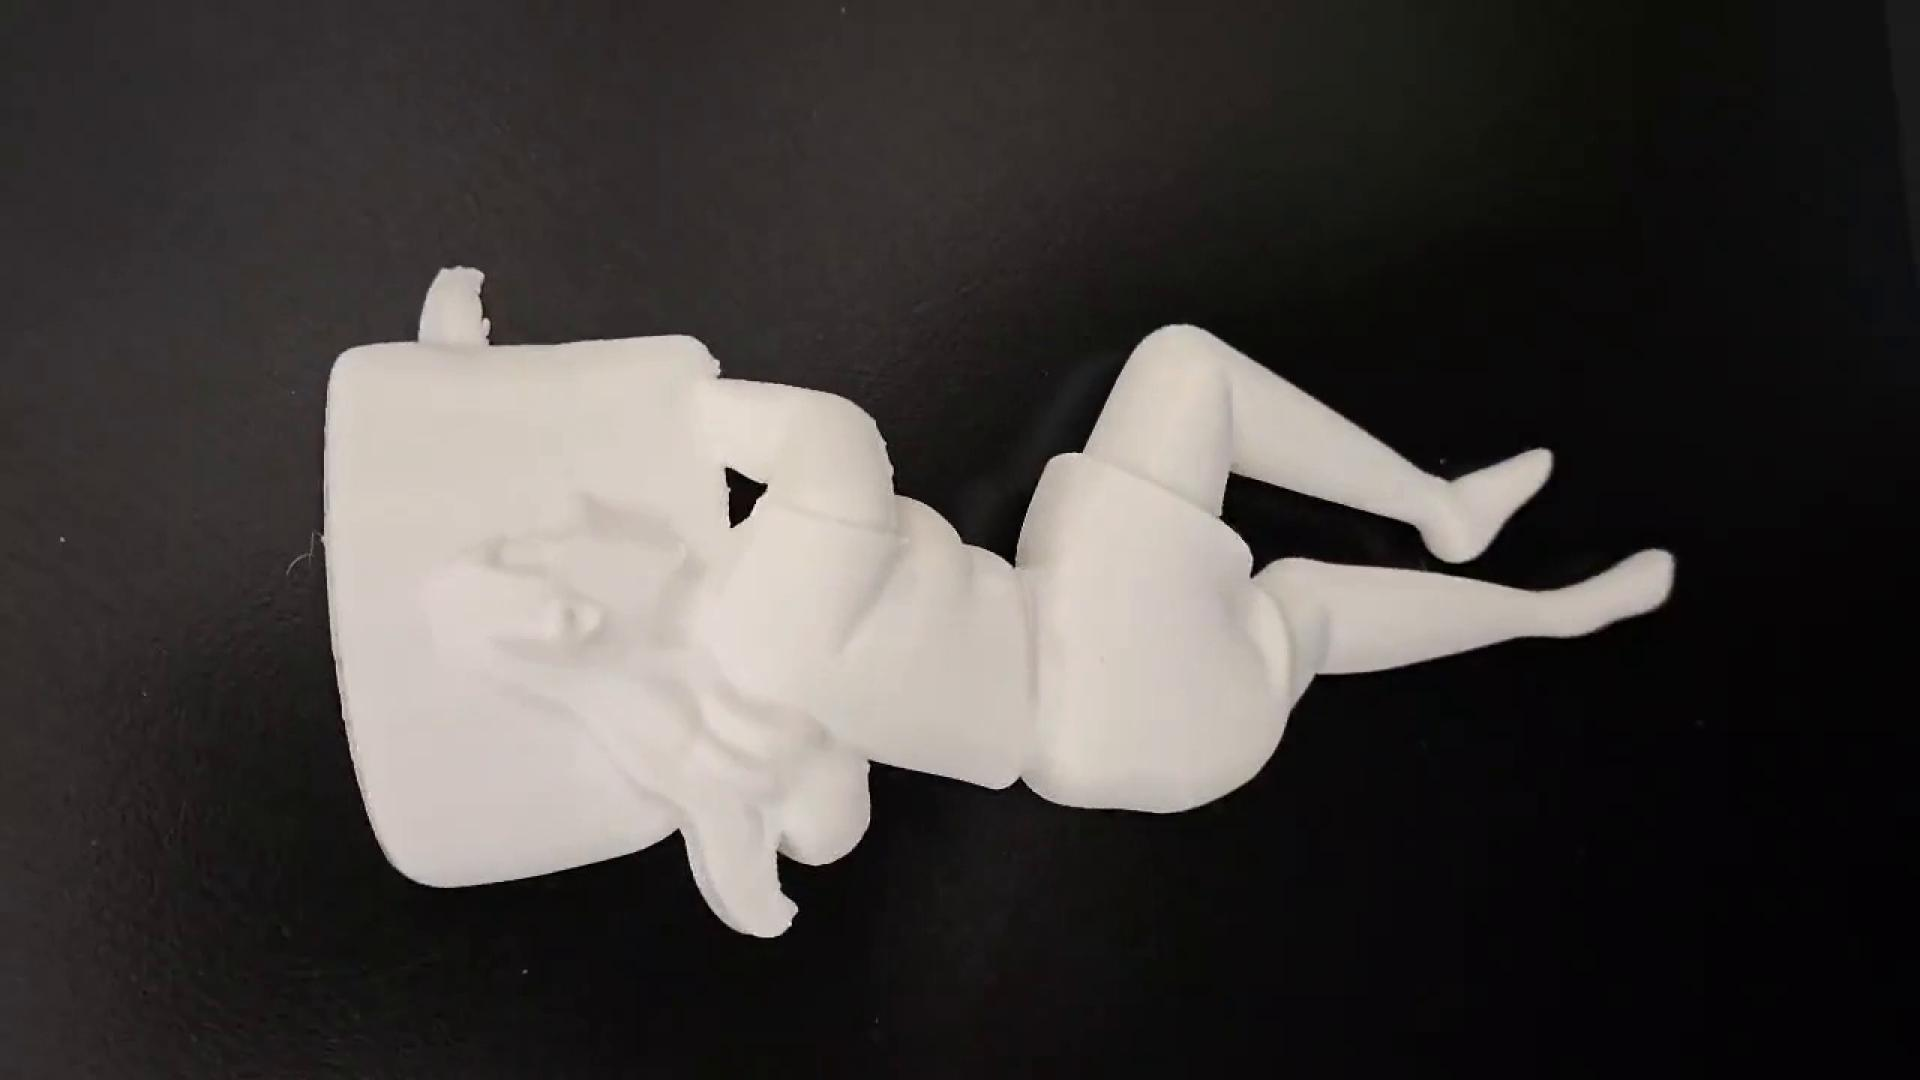Good-style: (318, 262, 1681, 942)
